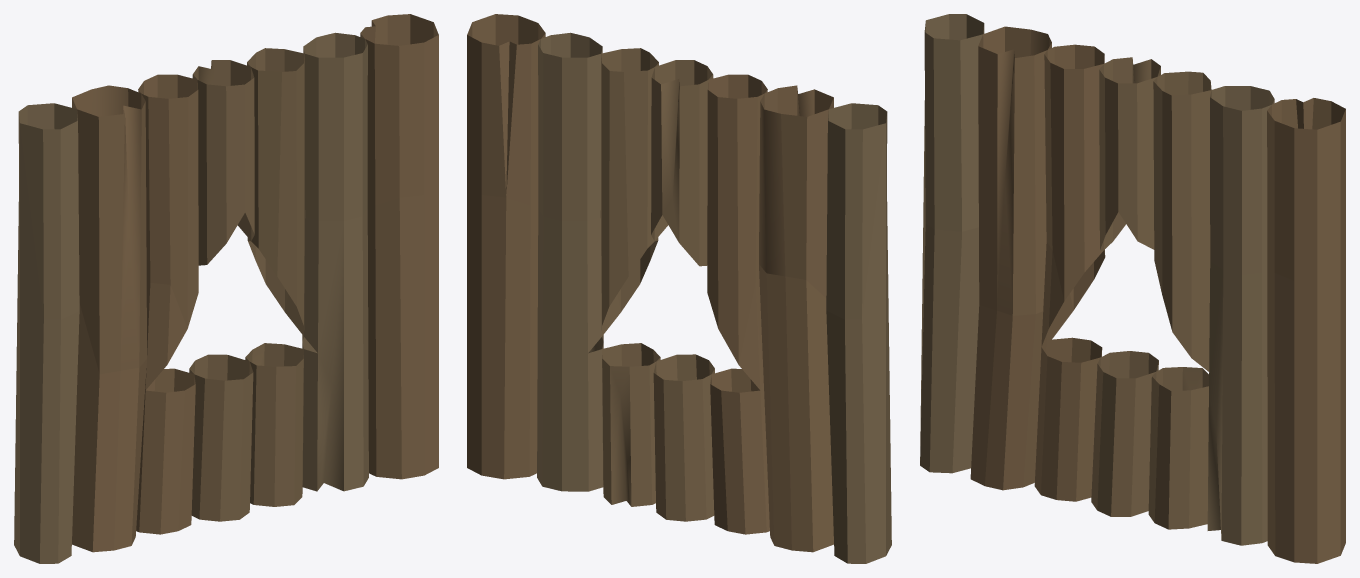
Rendered from rpgpp_ag_wall_02_3x3_window_e.fbx.
3 views of the same model, side by side, from view 1: azimuth 30°, elevation 25°; view 2: azimuth 150°, elevation 25°; view 3: azimuth 330°, elevation 25° (orthographic).
Visible parts, largest first — view 1: rpgpp_ag_wall_02_3x3_window_e; view 2: rpgpp_ag_wall_02_3x3_window_e; view 3: rpgpp_ag_wall_02_3x3_window_e.
Part boxes in pixels (left/top/right/bottom): rpgpp_ag_wall_02_3x3_window_e: left=14, top=14, right=438, bottom=563; rpgpp_ag_wall_02_3x3_window_e: left=467, top=14, right=891, bottom=563; rpgpp_ag_wall_02_3x3_window_e: left=920, top=14, right=1345, bottom=563.
Size of the model in its own units: 3 by 3 by 0.4626.
